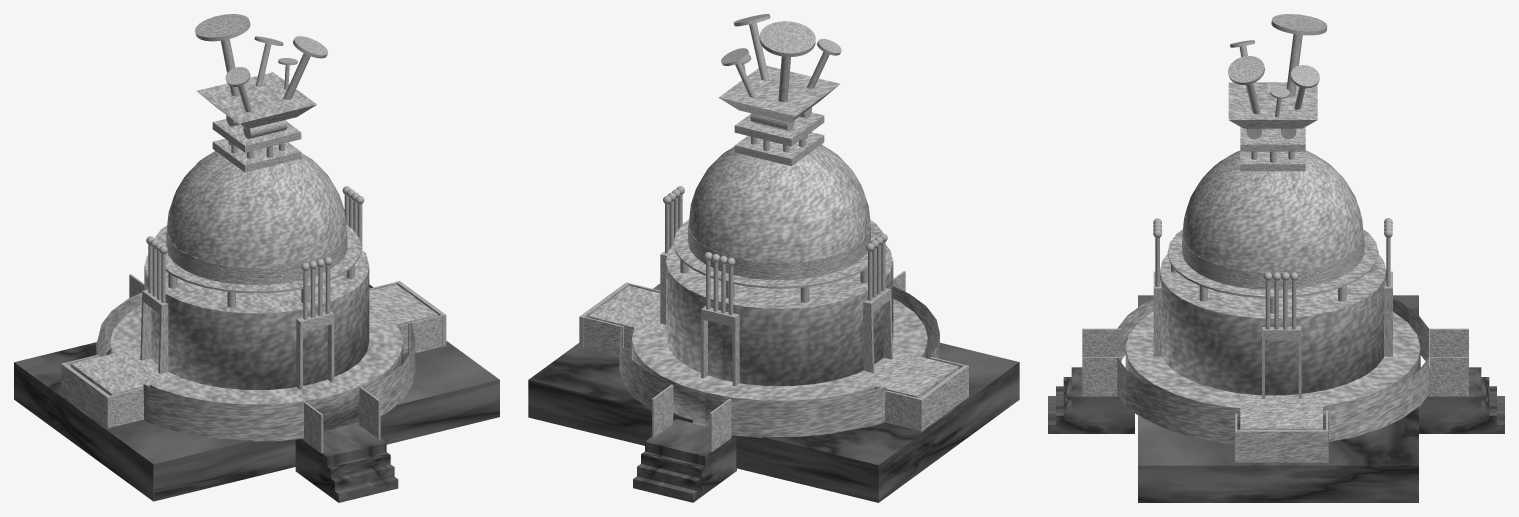
The model's file is dhauli.dae.
3 renders of one model, left to right at view 1: azimuth 30°, elevation 25°; view 2: azimuth 150°, elevation 25°; view 3: azimuth 270°, elevation 25°, orthographic.
Visible parts, largest first — view 1: Cube.016, Cylinder, Sphere, Cylinder.023, Cylinder.008, Cube.015, Cube, Cylinder.012, Cube.014, Cylinder.001, Cube.006, Cube.003 (+11 smaller); view 2: Cube.016, Cylinder, Sphere, Cylinder.023, Cylinder.008, Cube.002, Cube, Cylinder.012, Cube.014, Cube.006, Cylinder.001, Cube.003 (+11 smaller); view 3: Cylinder, Cube.016, Sphere, Cylinder.023, Cylinder.008, Cube.002, Cube.015, Cube, Cube.020, Cylinder.012, Cube.006, Cylinder.001 (+14 smaller).
Boxes of the visible parts, x1=… form: Cube.016: x1=14, y1=284, x2=499, y2=501; Cylinder: x1=144, y1=250, x2=369, y2=389; Sphere: x1=167, y1=151, x2=346, y2=267; Cylinder.023: x1=96, y1=292, x2=415, y2=441; Cylinder.008: x1=110, y1=305, x2=403, y2=431; Cube.015: x1=295, y1=421, x2=398, y2=502; Cube: x1=197, y1=72, x2=316, y2=129; Cylinder.012: x1=166, y1=226, x2=347, y2=284; Cube.014: x1=71, y1=347, x2=179, y2=395; Cylinder.001: x1=154, y1=225, x2=361, y2=293; Cube.006: x1=369, y1=284, x2=437, y2=353; Cube.003: x1=61, y1=362, x2=111, y2=428; Cube.016: x1=528, y1=283, x2=1019, y2=502; Cylinder: x1=666, y1=244, x2=893, y2=385; Sphere: x1=688, y1=144, x2=870, y2=262; Cylinder.023: x1=619, y1=286, x2=939, y2=437; Cylinder.008: x1=631, y1=299, x2=927, y2=427; Cube.002: x1=633, y1=419, x2=736, y2=502; Cube: x1=718, y1=65, x2=840, y2=122; Cylinder.012: x1=688, y1=221, x2=870, y2=279; Cube.014: x1=847, y1=350, x2=958, y2=398; Cube.006: x1=587, y1=285, x2=665, y2=357; Cylinder.001: x1=673, y1=219, x2=882, y2=288; Cube.003: x1=918, y1=365, x2=968, y2=431; Cylinder: x1=1160, y1=254, x2=1386, y2=395; Cube.016: x1=1138, y1=295, x2=1418, y2=502; Sphere: x1=1182, y1=150, x2=1363, y2=273; Cylinder.023: x1=1117, y1=299, x2=1429, y2=445; Cylinder.008: x1=1125, y1=311, x2=1420, y2=435; Cube.002: x1=1419, y1=367, x2=1504, y2=433; Cube.015: x1=1048, y1=367, x2=1134, y2=433; Cube: x1=1228, y1=82, x2=1317, y2=128; Cube.020: x1=1235, y1=429, x2=1328, y2=462; Cylinder.012: x1=1182, y1=232, x2=1364, y2=289; Cube.006: x1=1240, y1=394, x2=1322, y2=429; Cylinder.001: x1=1167, y1=229, x2=1378, y2=297.
Size of the model in its own units: 3.99 by 4.53 by 4.27.
Materials: 13 (13 with a texture image).
